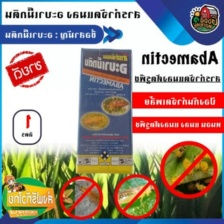carton: (74, 45, 136, 178)
